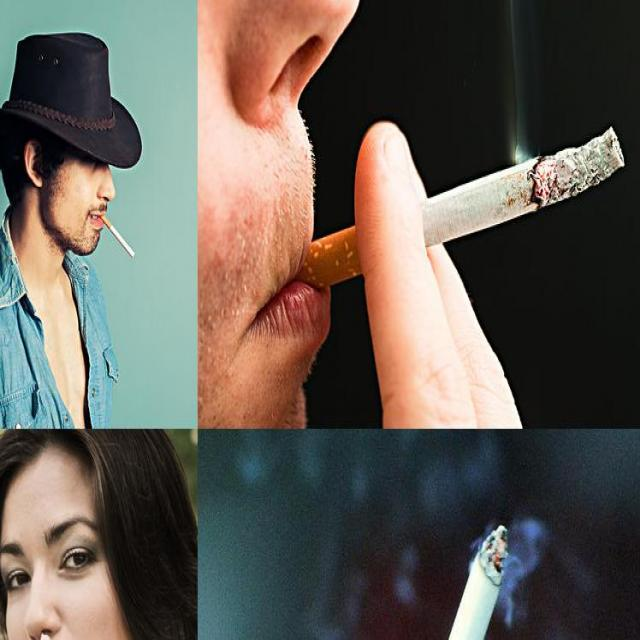cigarette: (294, 124, 628, 293), (381, 524, 508, 638), (98, 207, 138, 260)
